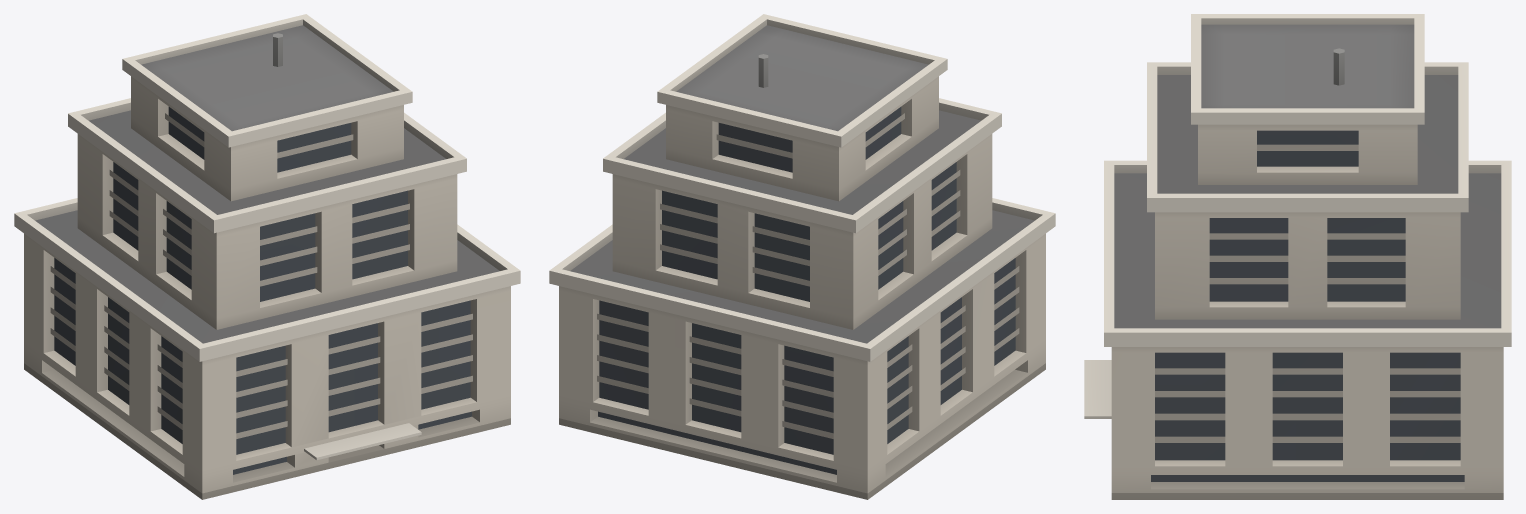
File: building-tower-stepped.glb
The picture shows the model from 3 angles, left to right: view 1: azimuth 30°, elevation 25°; view 2: azimuth 150°, elevation 25°; view 3: azimuth 270°, elevation 25°; orthographic projection. The views are drawn at different scales.
Visible parts, largest first — view 1: Building; view 2: Building; view 3: Building.
Part boxes in pixels (x1,y1,x2,y2): Building: (14, 14, 520, 499); Building: (549, 14, 1055, 499); Building: (1084, 14, 1511, 499).
Size of the model in its own units: 1.04 by 1.07 by 1.09.
